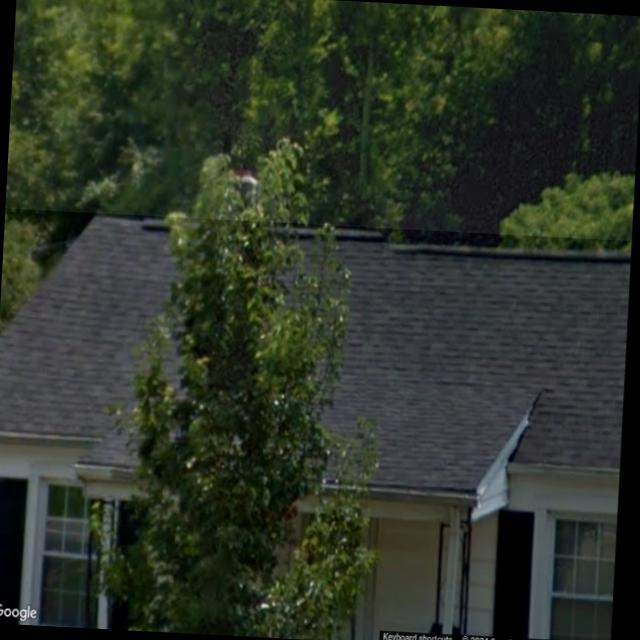House: (0, 208, 631, 640)
